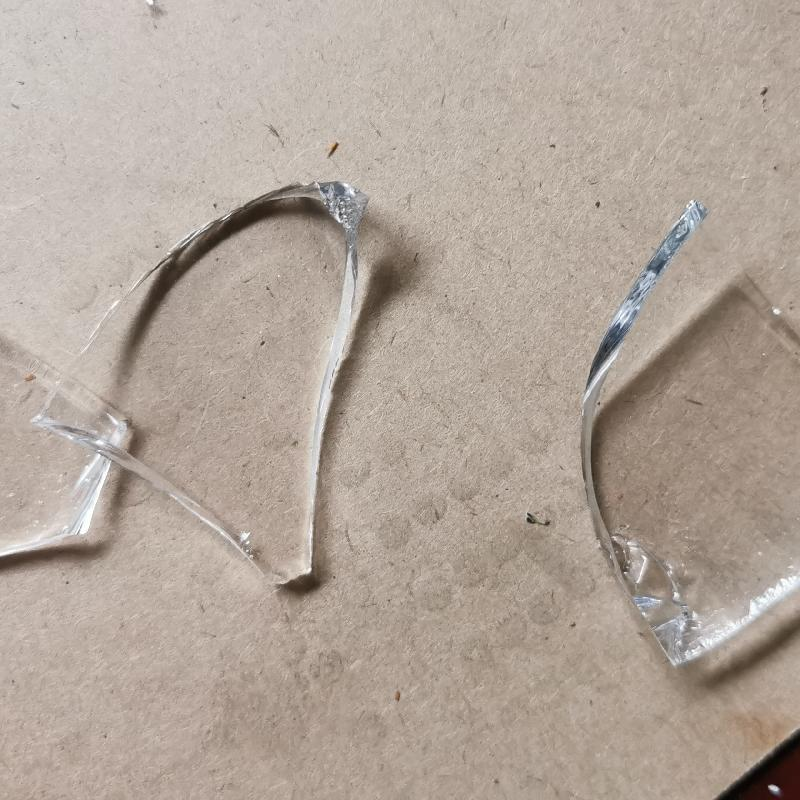glass: (32, 180, 365, 593), (577, 203, 800, 678)
